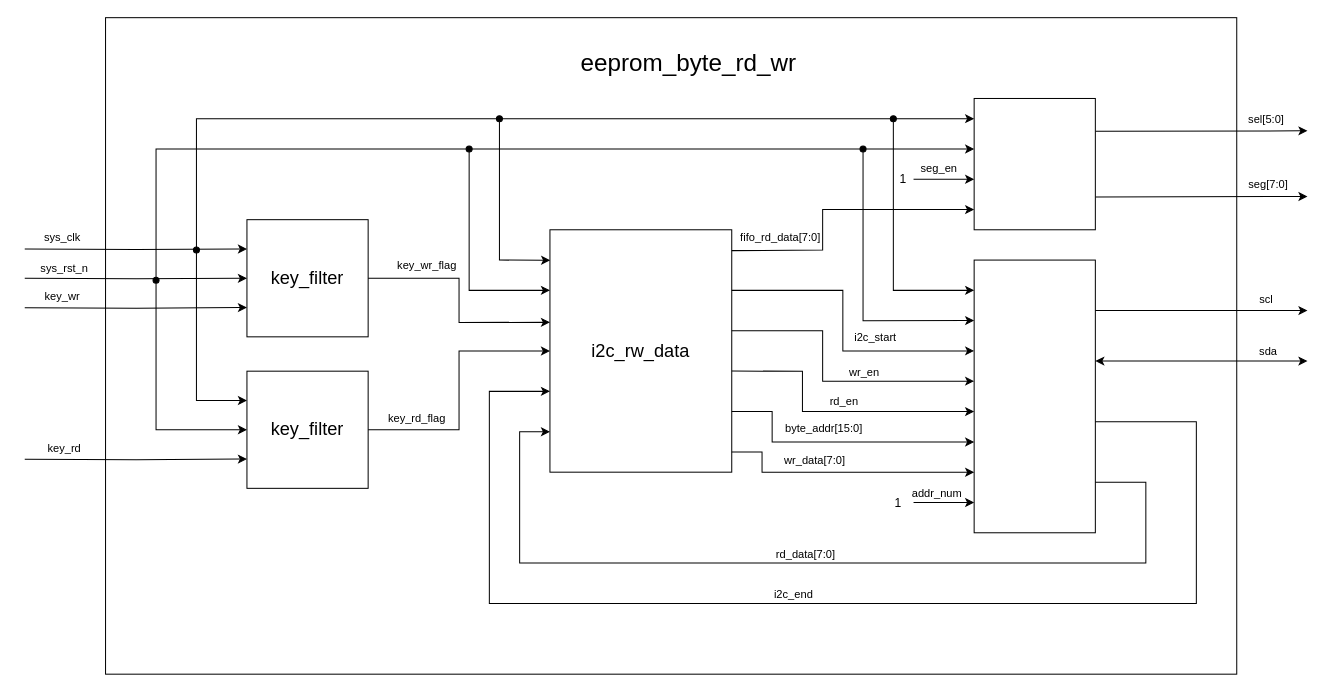
This 1334x692 diagram has some shape labels left out. The box of each missing label's shape, as (x1, y1, x2, y2) in pixels:
i2c_ctrl: (973, 259, 1095, 533)
seg_dynamic: (973, 97, 1095, 230)
